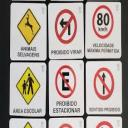NoEstacionar: (55, 64, 77, 99)
NoSeguir: (93, 66, 115, 102)
NoVirarEsquerda: (54, 8, 78, 46)
speed_limit_80: (92, 3, 114, 40)
